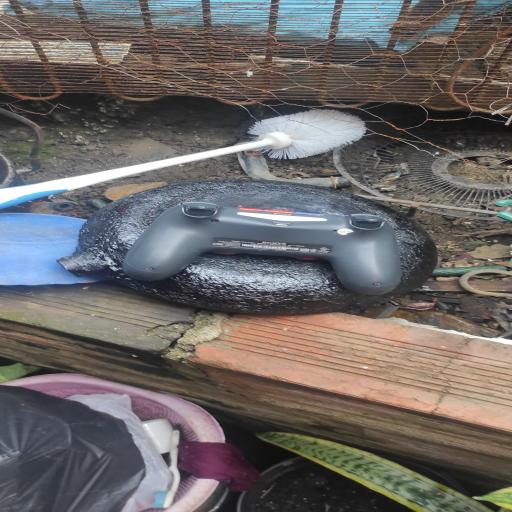ControlPlay4: (123, 201, 401, 295)
